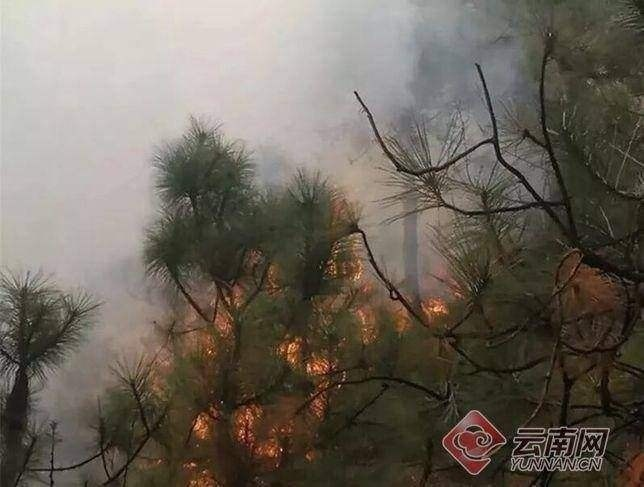fire: (153, 252, 460, 461), (423, 293, 449, 316)
